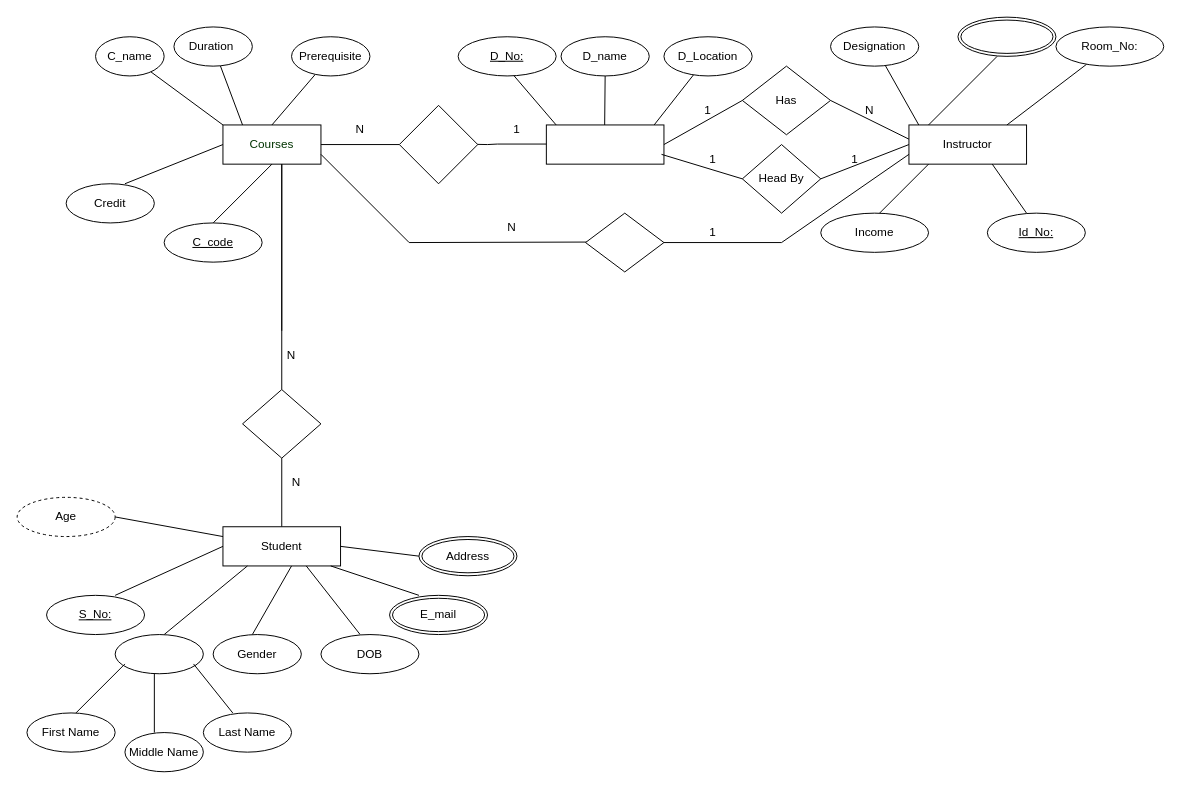
Some shapes in this 1181 by 789 pixel diagram are drawn without their labels. Here are the shapes that lost their labels. From the top down, the centre of each, then its label:
At pixel 1006 36: "Mobile No:".
At pixel 438 144: "Offers".
At pixel 604 144: "Department".
At pixel 624 242: "Taught By".
At pixel 281 423: "Enrolled by".
At pixel 158 654: "S_Name".
